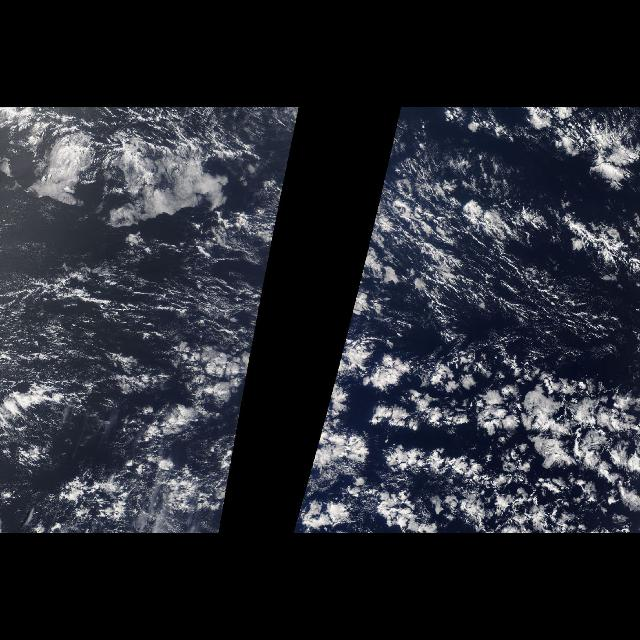Fish: (348, 154, 636, 320)
Flower: (299, 328, 637, 512), (54, 328, 256, 512)
Gravel: (341, 321, 631, 533)
